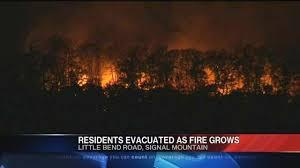fire: (201, 62, 246, 95), (77, 63, 122, 87), (259, 69, 276, 93), (76, 71, 88, 86)
